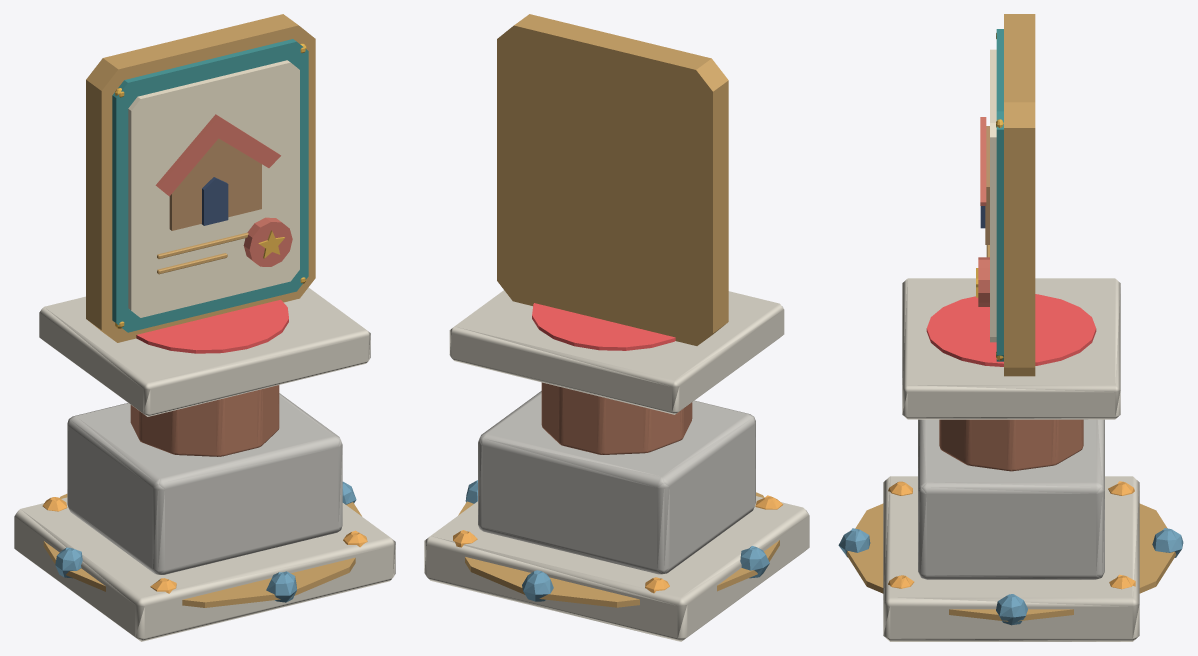
Rendered from SM_Rest_RoomShop.fbx.
3 renders of one model, left to right at view 1: azimuth 30°, elevation 25°; view 2: azimuth 150°, elevation 25°; view 3: azimuth 270°, elevation 25°, orthographic.
Visible parts, largest first — view 1: SM_Rest_RoomShop; view 2: SM_Rest_RoomShop; view 3: SM_Rest_RoomShop.
Part boxes in pixels (box(x1,y1,x2,y2)): SM_Rest_RoomShop: box(14, 14, 395, 641); SM_Rest_RoomShop: box(424, 14, 809, 641); SM_Rest_RoomShop: box(838, 14, 1183, 641).
Size of the model in its own units: 153 by 155 by 259.
